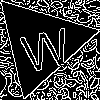W: (16, 18, 73, 74)
